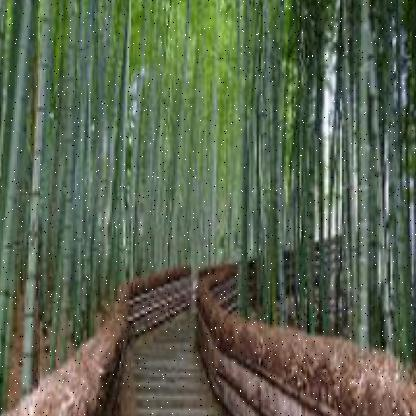stair_up: (108, 320, 247, 416)
